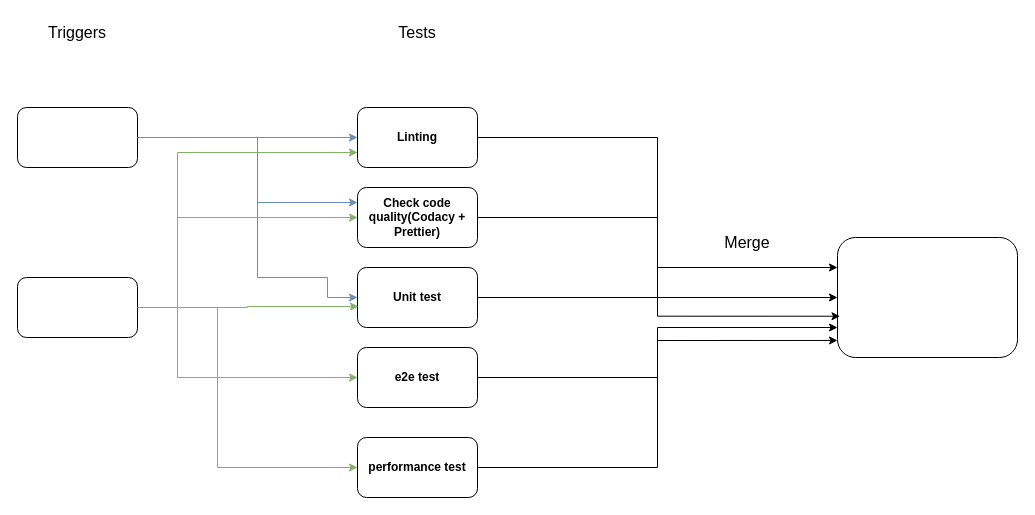
Image size: 1035x515. Some labels were removed from this diagram. Each missing label, with the centre of its shape:
"CI" goes at (927,297).
"Commit" goes at (77,137).
"Pull Request" goes at (77,307).
